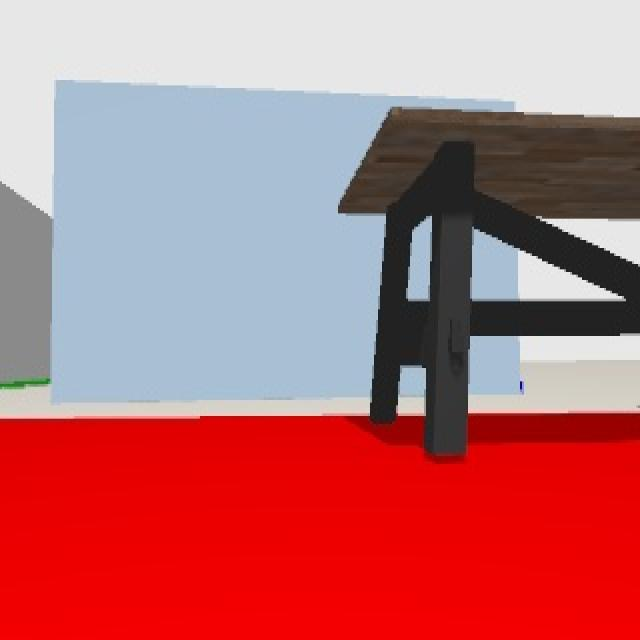dining: (338, 106, 640, 452)
